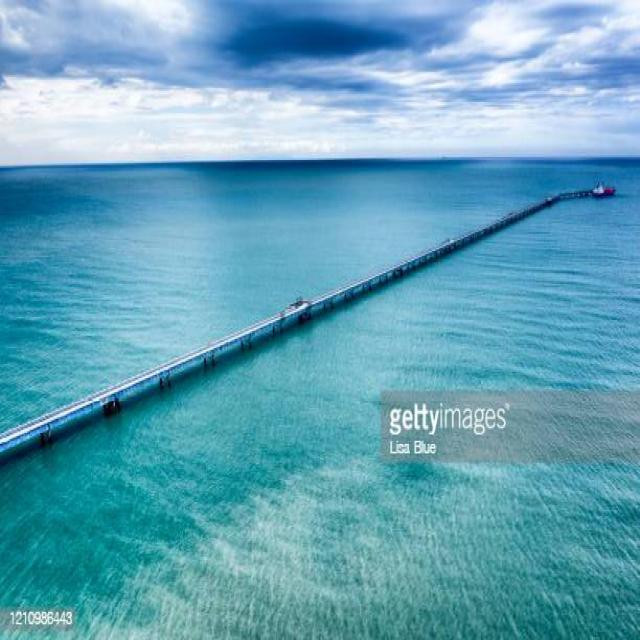gas: (0, 193, 556, 459)
